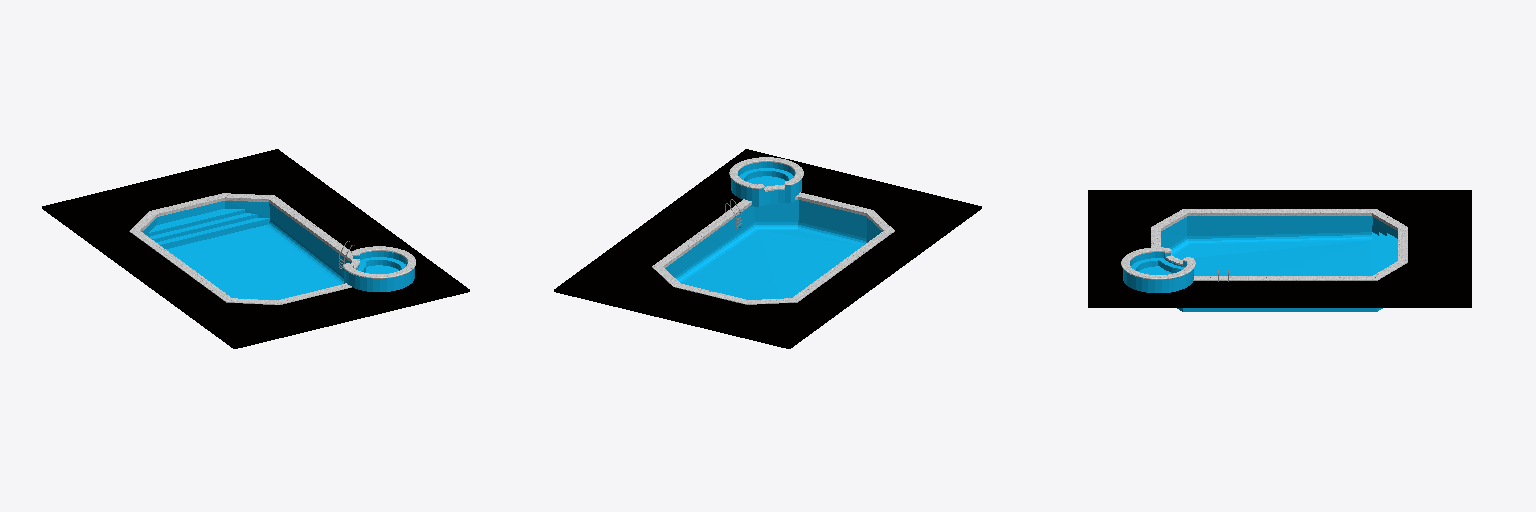
The picture shows the model from 3 angles: view 1: azimuth 30°, elevation 25°; view 2: azimuth 150°, elevation 25°; view 3: azimuth 270°, elevation 25°; orthographic projection.
Visible parts, largest first — view 1: griega_suelo_sombra, griega_sombra, griega_borde_sombra, escalera_obra_griega_sombra, jacuzzi_griega_sombra, jacuzzi_borde_griega_sombra; view 2: griega_suelo_sombra, griega_sombra, griega_borde_sombra, jacuzzi_griega_sombra, jacuzzi_borde_griega_sombra; view 3: griega_suelo_sombra, griega_sombra, griega_borde_sombra, jacuzzi_griega_sombra, jacuzzi_borde_griega_sombra, escalera_obra_griega_sombra.
Boxes of the visible parts, x1,y1,x2,y2 form: griega_suelo_sombra: [42, 149, 469, 348]; griega_sombra: [142, 201, 350, 299]; griega_borde_sombra: [129, 193, 352, 304]; escalera_obra_griega_sombra: [149, 209, 269, 248]; jacuzzi_griega_sombra: [344, 251, 414, 291]; jacuzzi_borde_griega_sombra: [343, 246, 415, 278]; griega_suelo_sombra: [554, 149, 981, 348]; griega_sombra: [665, 200, 881, 299]; griega_borde_sombra: [652, 192, 894, 304]; jacuzzi_griega_sombra: [731, 162, 801, 206]; jacuzzi_borde_griega_sombra: [729, 157, 803, 191]; griega_suelo_sombra: [1088, 190, 1471, 307]; griega_sombra: [1161, 216, 1397, 311]; griega_borde_sombra: [1151, 209, 1407, 280]; jacuzzi_griega_sombra: [1123, 252, 1193, 292]; jacuzzi_borde_griega_sombra: [1121, 247, 1195, 279]; escalera_obra_griega_sombra: [1372, 232, 1397, 275].
Bounding box in the file's own units: 669 × 128 × 945.
Materials: 4 (1 with a texture image).